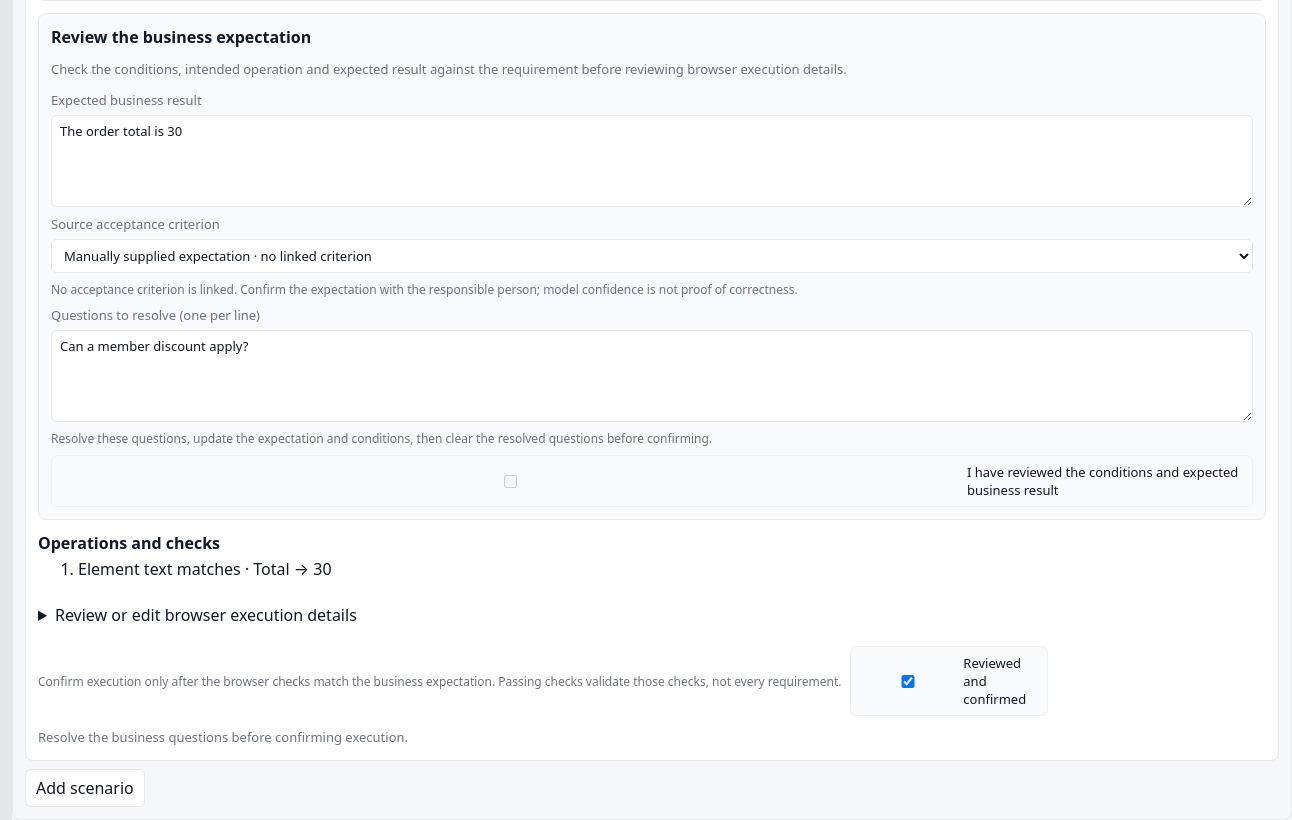
Test case: business expectation review › requires business review and refuses confirmation while questions remain
The width and height of the screenshot is (1292, 820).
(page scrolled)
Expected: the checkbox named "I have reviewed the conditions and expected business result 1" is disabled, [65,474,956,488]
Clear the text box named "Questions to resolve (one per line) 1": [652, 376] box [51,330,1253,422]
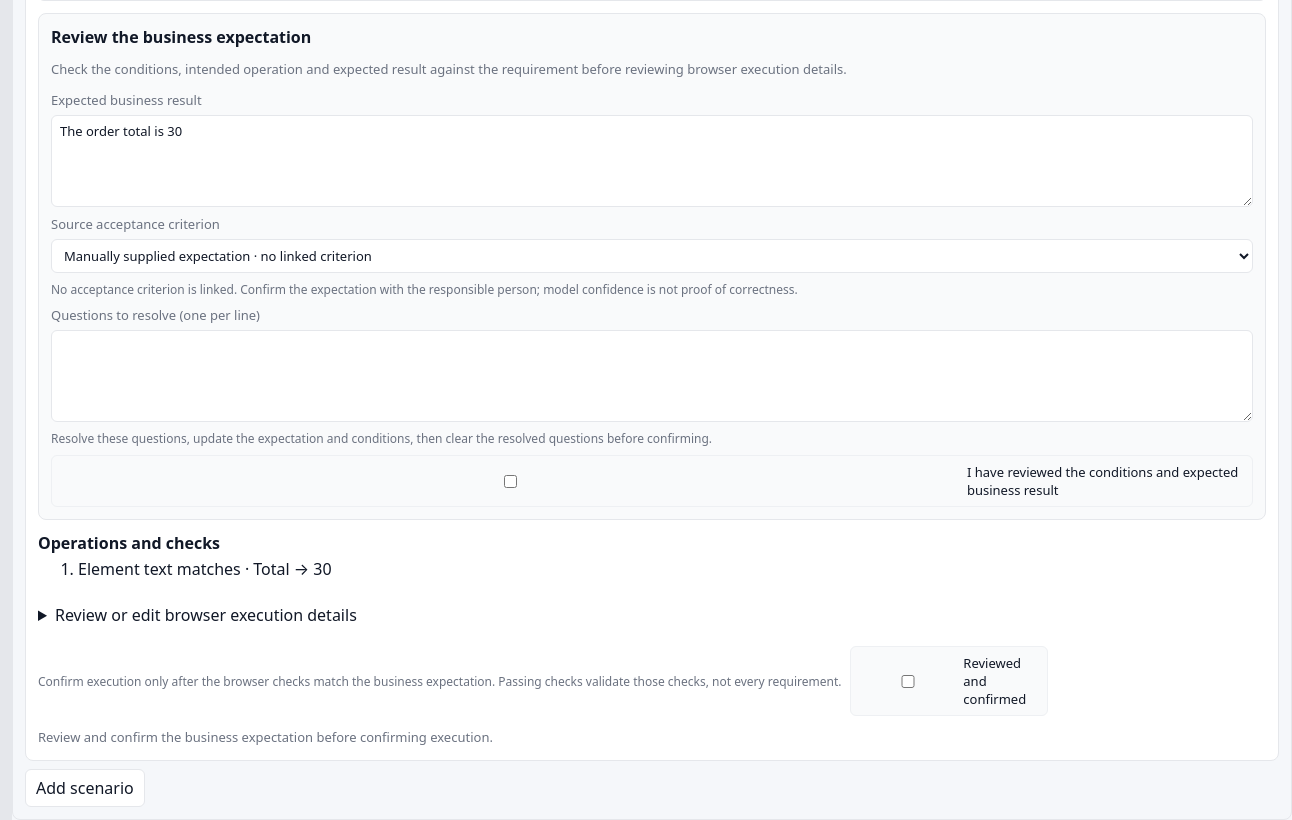
Now the checkbox named "I have reviewed the conditions and expected business result 1" is enabled, box [65,474,956,488]
